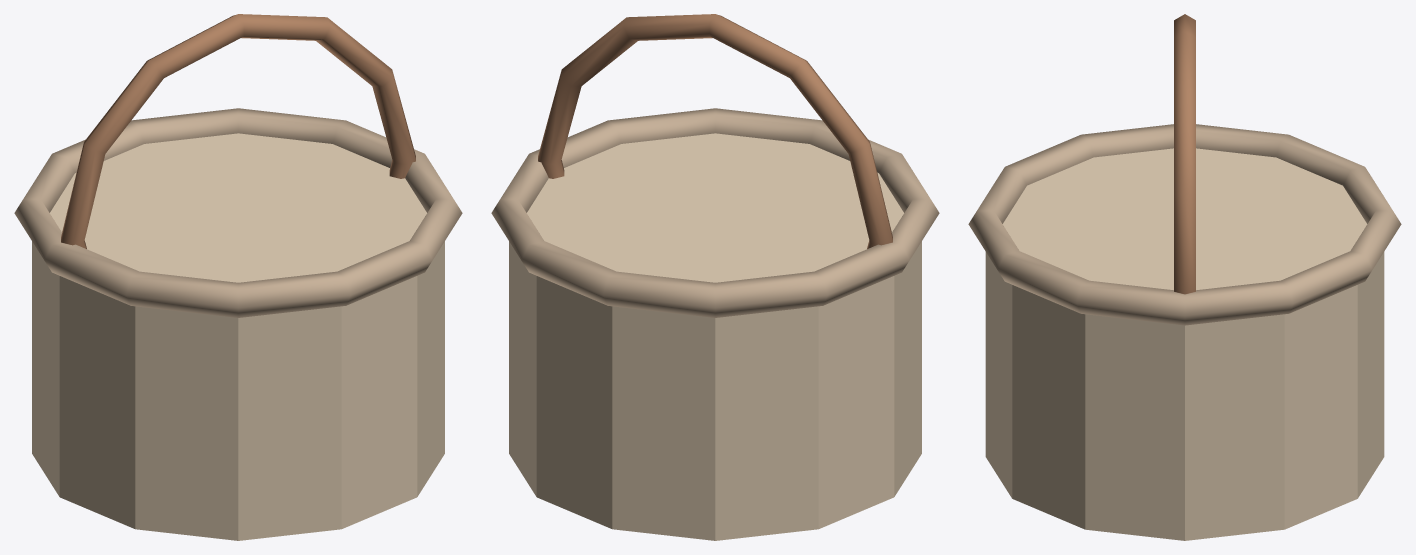
The model's file is material-basket.glb.
The picture shows the model from 3 angles, left to right: view 1: azimuth 30°, elevation 25°; view 2: azimuth 150°, elevation 25°; view 3: azimuth 270°, elevation 25°; orthographic projection. The views are drawn at different scales.
Parts seen in each view (by area): view 1: basket_Body, basket_Rim, basket_Handle; view 2: basket_Body, basket_Rim, basket_Handle; view 3: basket_Body, basket_Rim, basket_Handle.
Part boxes in pixels (x1,y1,x2,y2): basket_Body: [32, 133, 444, 540]; basket_Rim: [14, 108, 462, 317]; basket_Handle: [61, 14, 415, 248]; basket_Body: [509, 133, 921, 540]; basket_Rim: [491, 108, 939, 317]; basket_Handle: [538, 14, 892, 248]; basket_Body: [985, 148, 1384, 540]; basket_Rim: [968, 124, 1401, 325]; basket_Handle: [1174, 14, 1195, 294].
Size of the model in its own units: 0.304 by 0.329 by 0.304.
